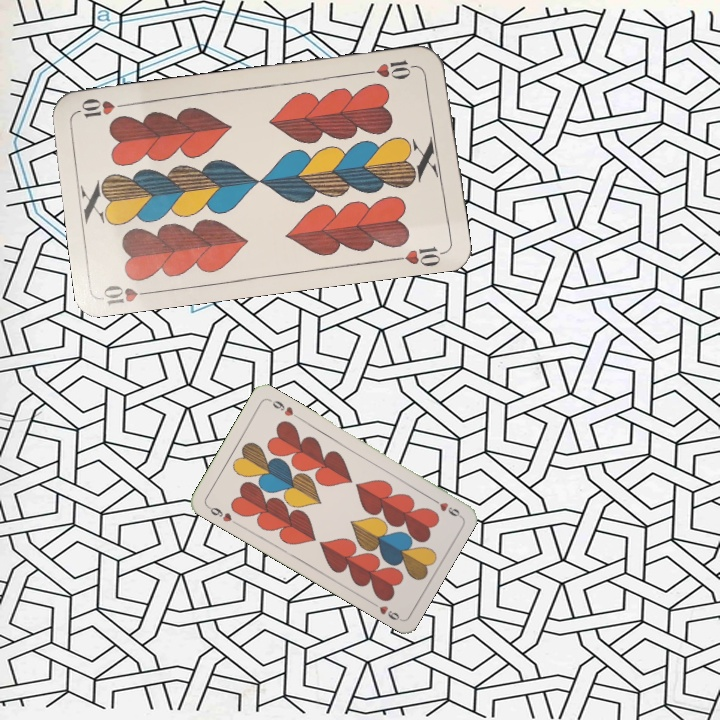H10: (362, 56, 421, 82), (99, 281, 158, 307)
H9: (203, 501, 240, 527), (426, 493, 463, 519)
